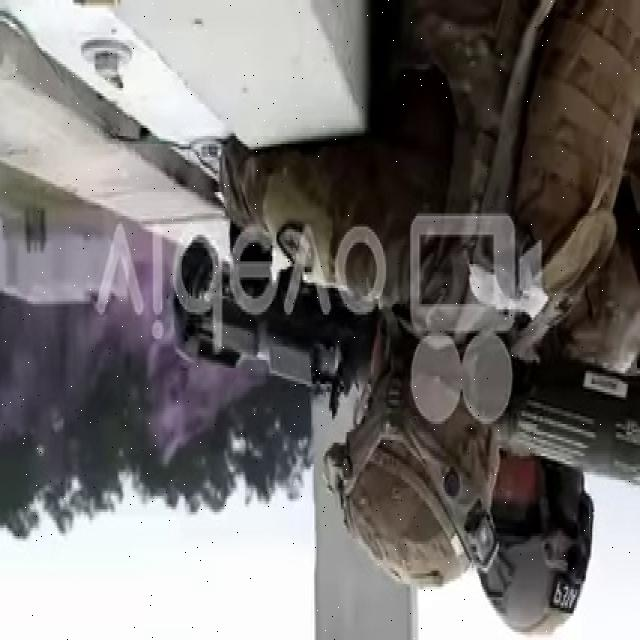bazooka: (161, 241, 640, 501)
